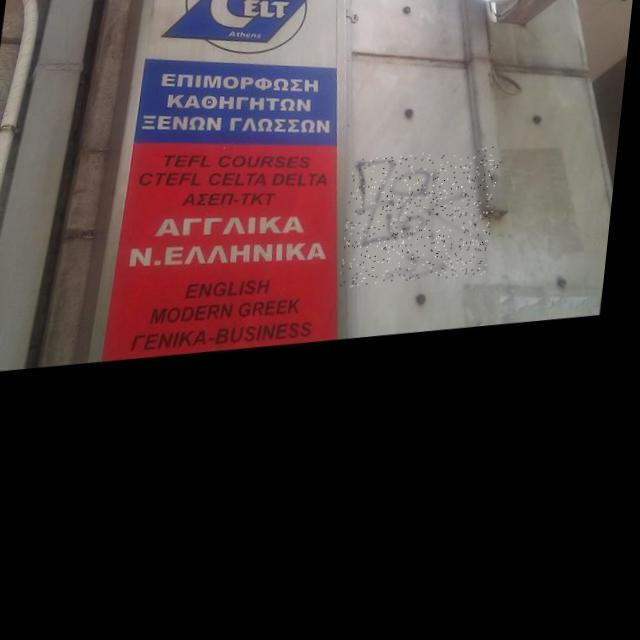-: (345, 155, 505, 299)
